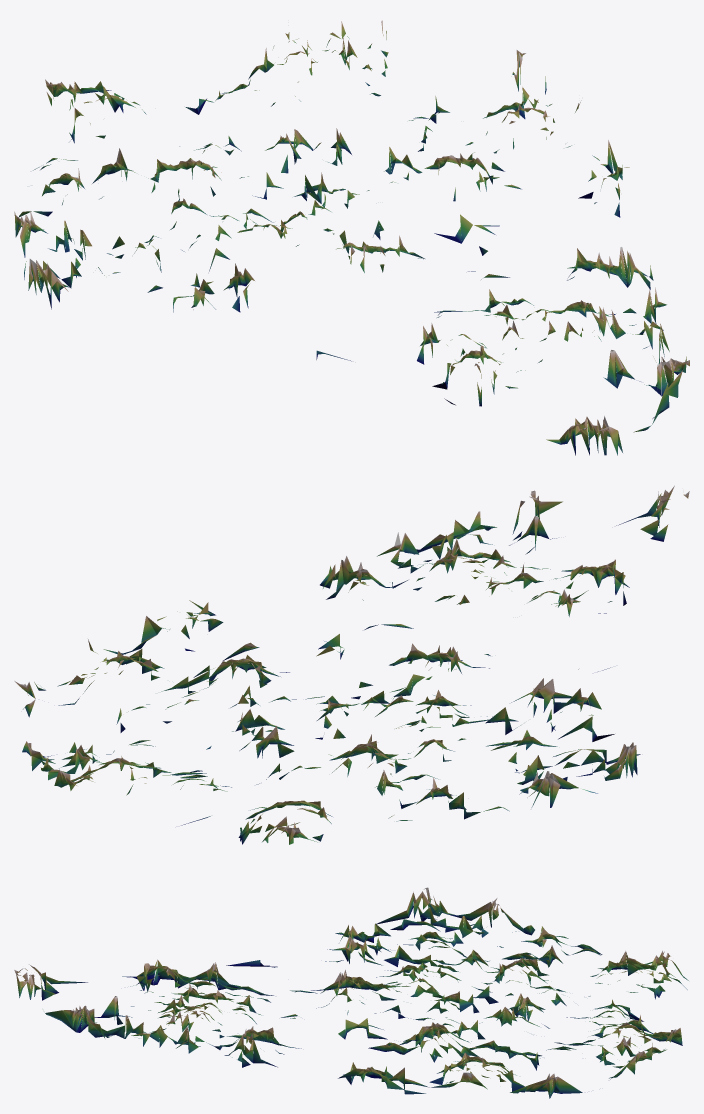
The model's file is tsne2_island.gltf.
3 views of the same model, one above another, from view 1: azimuth 30°, elevation 25°; view 2: azimuth 150°, elevation 25°; view 3: azimuth 270°, elevation 25° (orthographic). The views are drawn at different scales.
Visible parts, largest first — view 1: Renderer Node; view 2: Renderer Node; view 3: Renderer Node.
Boxes of the visible parts, box(x1,y1,x2,y2) form: Renderer Node: box(14, 20, 689, 455); Renderer Node: box(14, 485, 689, 844); Renderer Node: box(14, 887, 688, 1098).
Size of the model in its own units: 75.67 by 5.55 by 113.
Materials: 1 (1 with a texture image).
